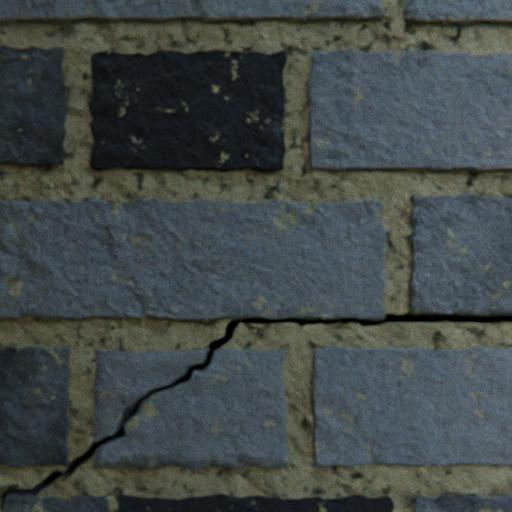brick: (0, 198, 385, 320), (306, 51, 511, 173), (311, 346, 511, 466), (90, 51, 286, 172), (407, 195, 511, 314), (0, 0, 383, 26), (0, 346, 71, 466), (0, 47, 68, 168), (4, 493, 393, 511), (402, 0, 511, 28), (412, 493, 511, 511)
broken_brick: (95, 349, 288, 469), (95, 349, 206, 439)
crack: (0, 311, 511, 511)
